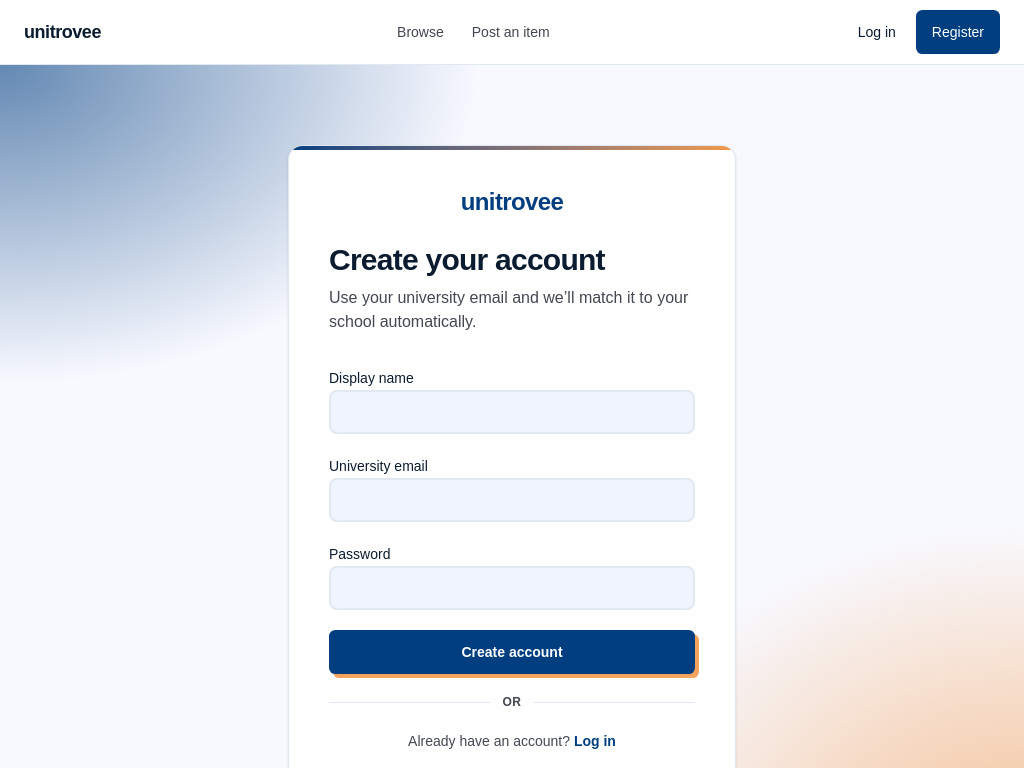
Test: RegisterPage › shows a required error when display name is empty
Click the button "Create account".
click(512, 652)  # box [329,630,695,674]
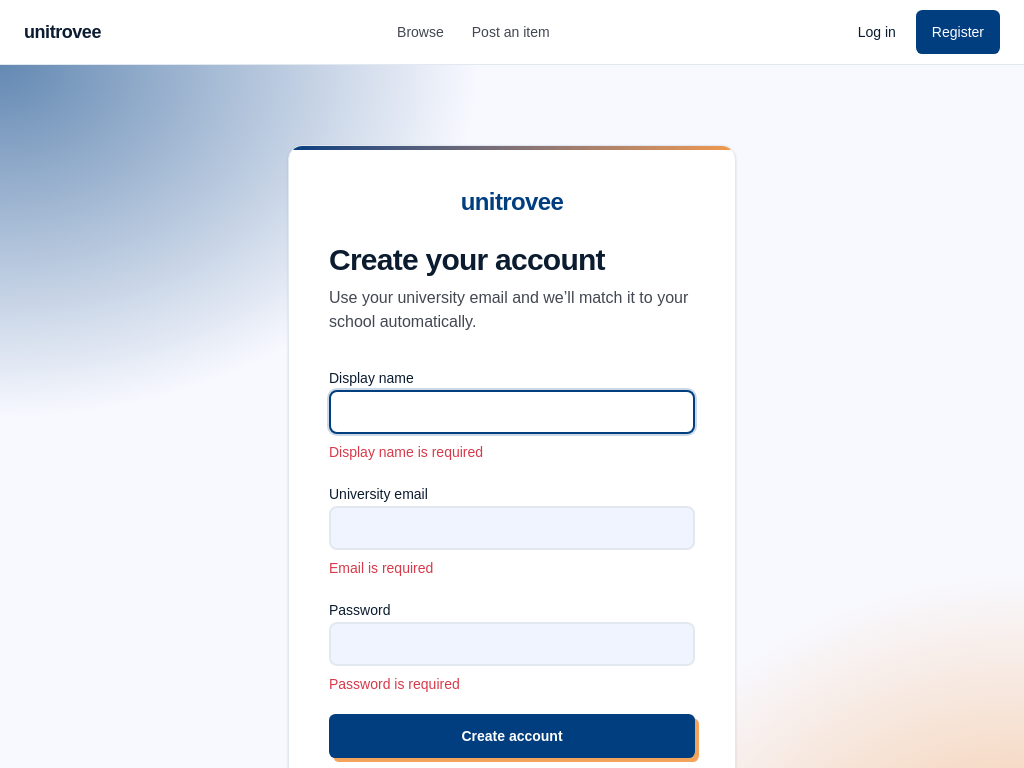
Check: the text "Display name is required" is shown, box [329,444,483,460]
